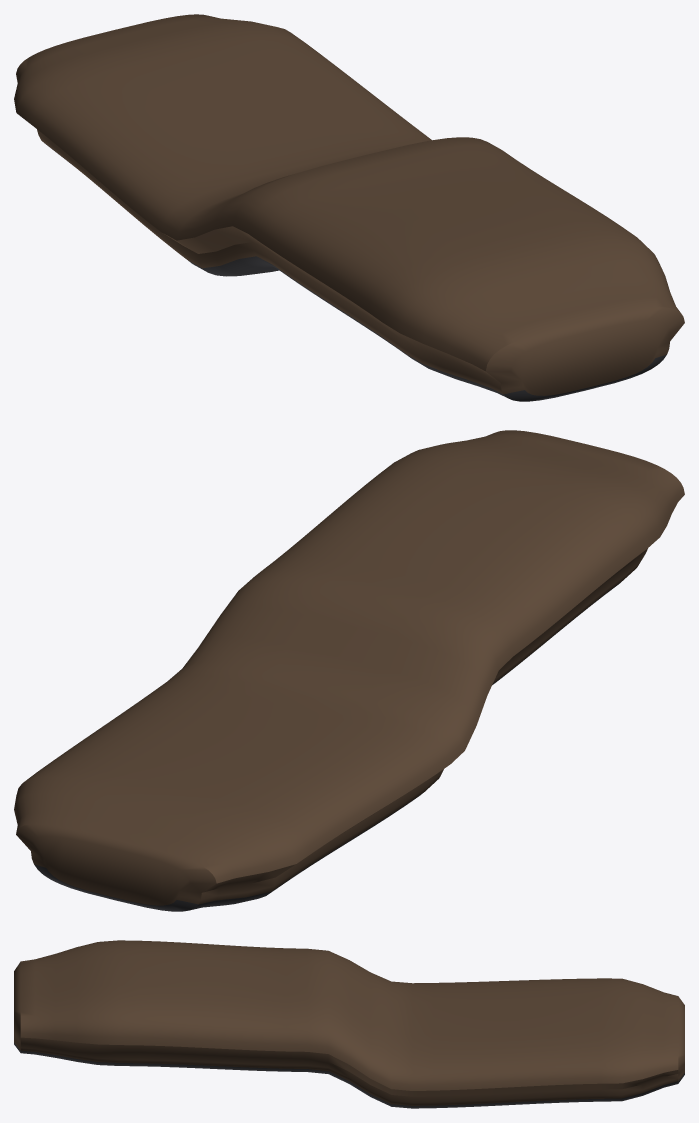
File: touring.glb
The picture shows the model from 3 angles, top to bottom: view 1: azimuth 30°, elevation 25°; view 2: azimuth 150°, elevation 25°; view 3: azimuth 270°, elevation 25°; orthographic projection. The views are drawn at different scales.
Parts seen in each view (by area): view 1: lod0; view 2: lod0; view 3: lod0.
Part boxes in pixels (x1,y1,x2,y2): lod0: (14,14,684,401); lod0: (14,430,684,911); lod0: (14,940,684,1108).
Size of what is drawn, in the model's own units: 0.3491 by 0.1799 by 1.
